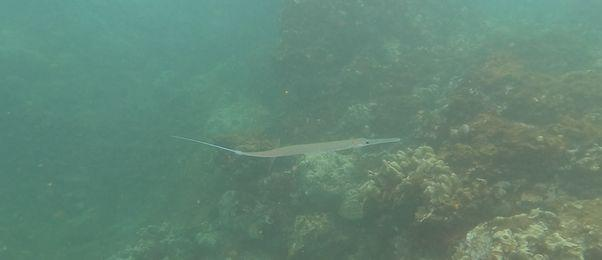Fistularia commersonii: (171, 131, 402, 162)
